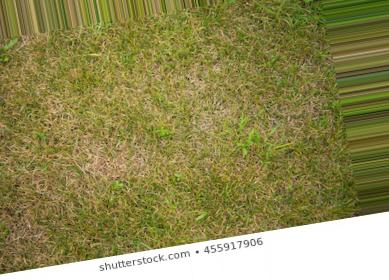patch: (52, 112, 142, 169), (225, 98, 287, 154), (17, 60, 91, 104), (159, 109, 224, 159), (134, 178, 221, 213), (254, 36, 293, 87), (119, 76, 190, 100), (201, 58, 245, 90)
